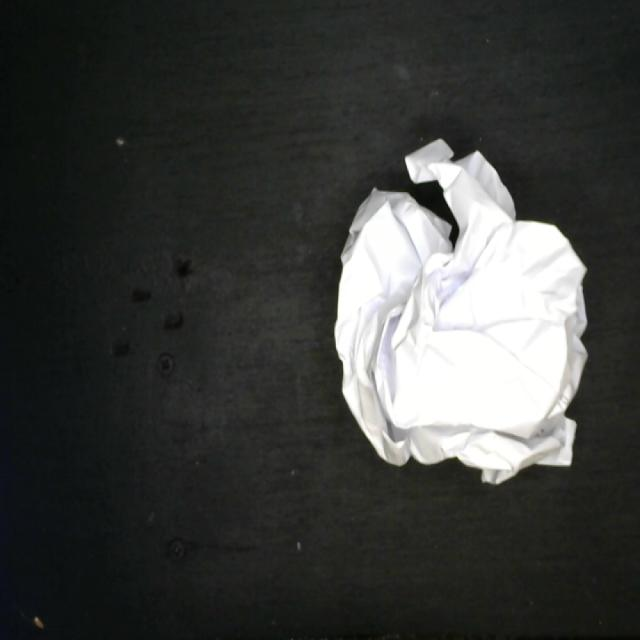biodegradable: (329, 133, 593, 490)
